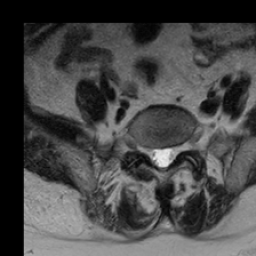CCS_normal: (157, 140, 166, 176)
LFS_normal: (175, 136, 184, 161)
LLS_normal: (166, 140, 175, 168)
RFS_normal: (141, 139, 149, 163)
RLS_normal: (148, 141, 157, 170)
